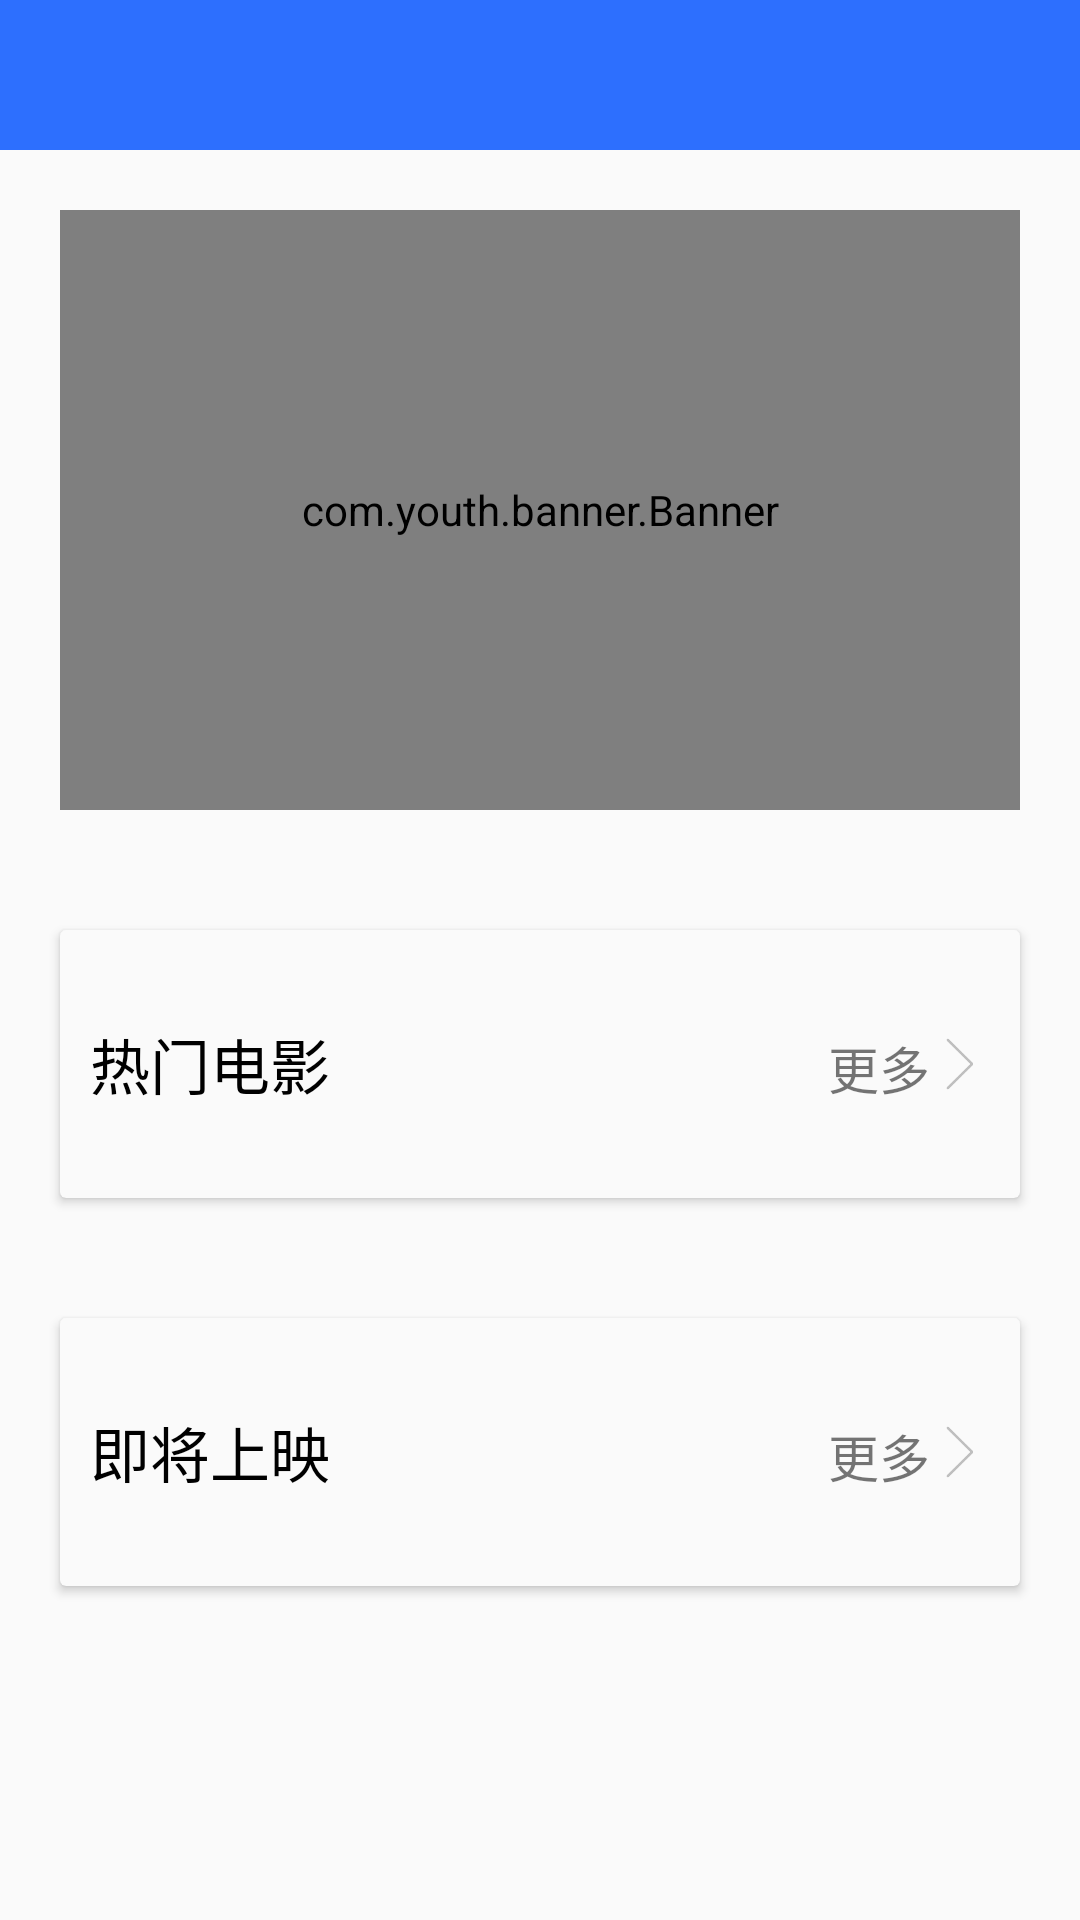

Icons on this 1080×1920 Android screen, each with its box as BBox(x1, y1, x2, y2):
jump: BBox(947, 1039, 973, 1089), BBox(947, 1427, 973, 1477)
